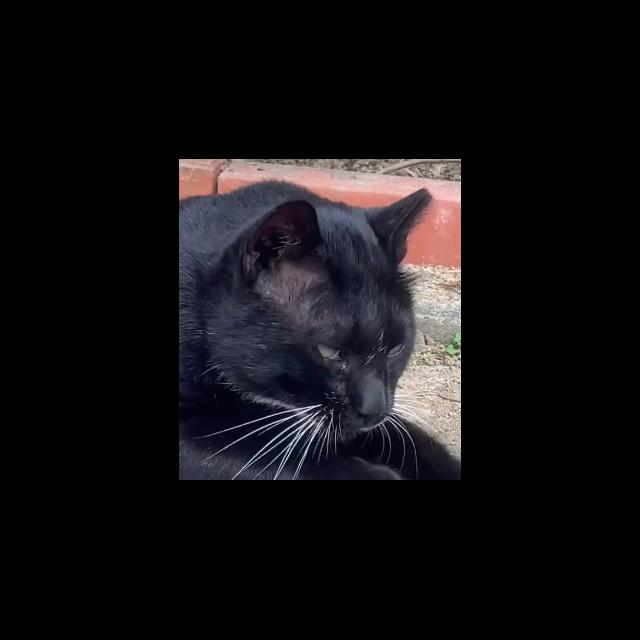animals: (200, 180, 438, 441)
